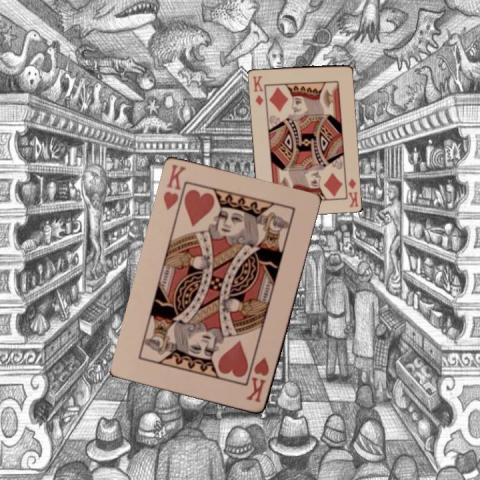Kd: (249, 73, 265, 106), (345, 175, 359, 209)
Kh: (160, 161, 188, 212), (243, 355, 271, 404)
